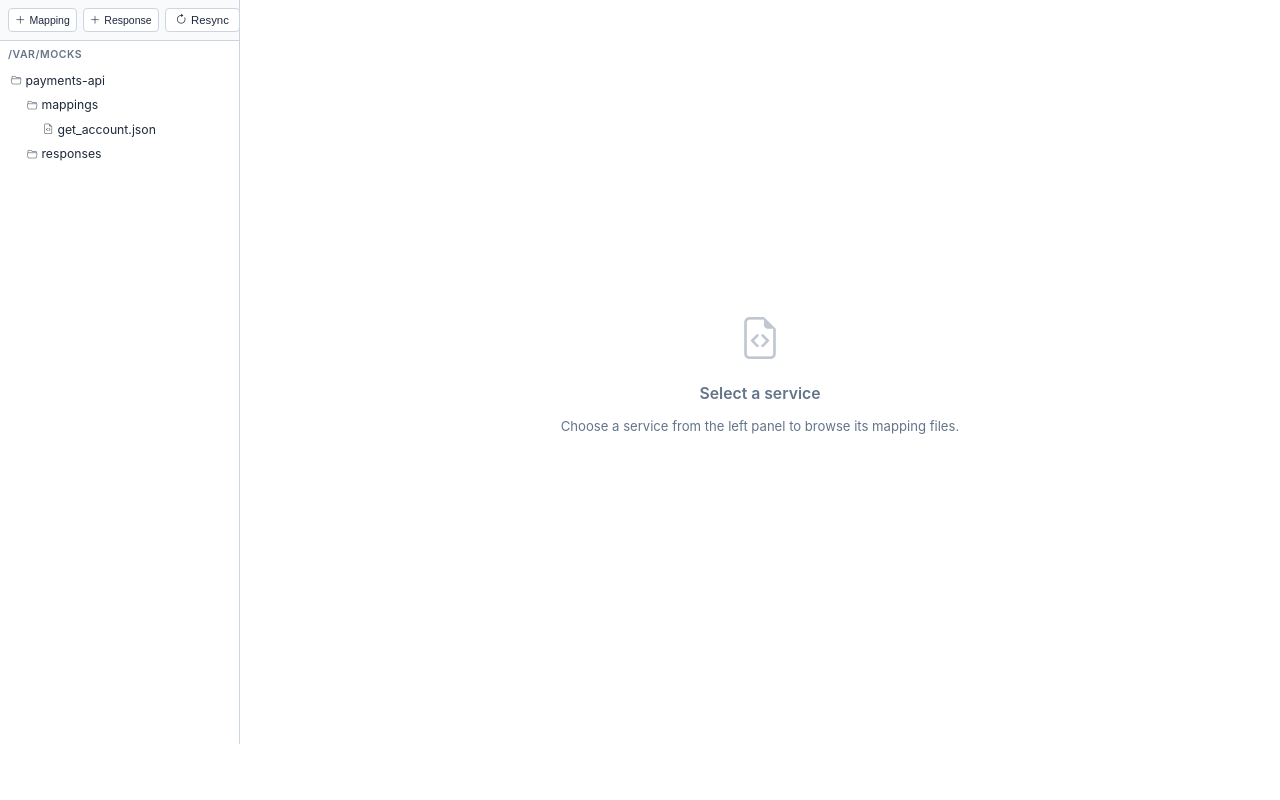
Test case: MappingsPage — handleDeleteSuccess clears active file › after successful delete, editor pane shows the empty state
Expected: the text "payments-api" is shown, [25,73,105,88]
What coordinates should you click on to do the following:
click the list item with test id "mappings-tree-node-payments-api-get_account.json"
I would click on:
 (99, 130)
Its box is [43,122,156,138].
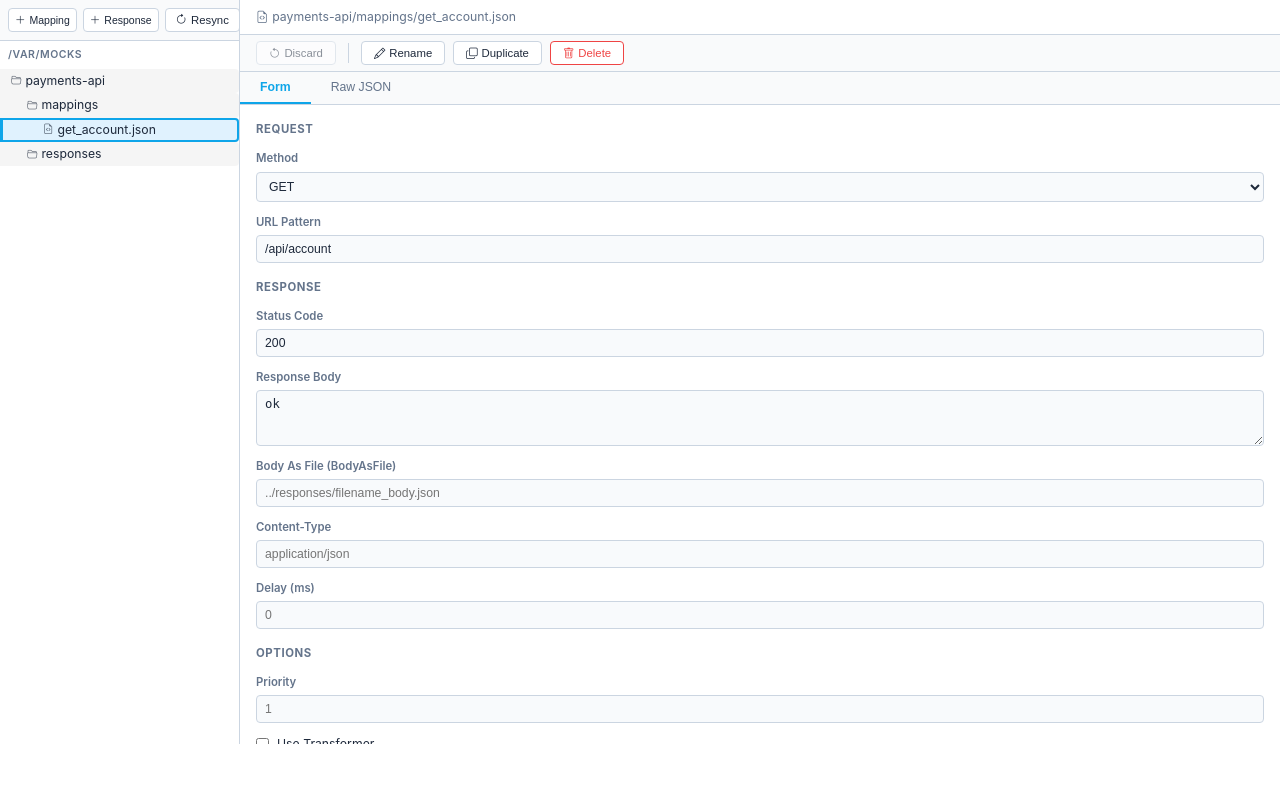
Now the element with test id "mappings-breadcrumb-editor" is shown, box [240,0,1279,35]
What coordinates should you click on to do the following:
click the button with test id "mappings-btn-delete"
I would click on:
 (587, 53)
Its box is [550,41,624,65].
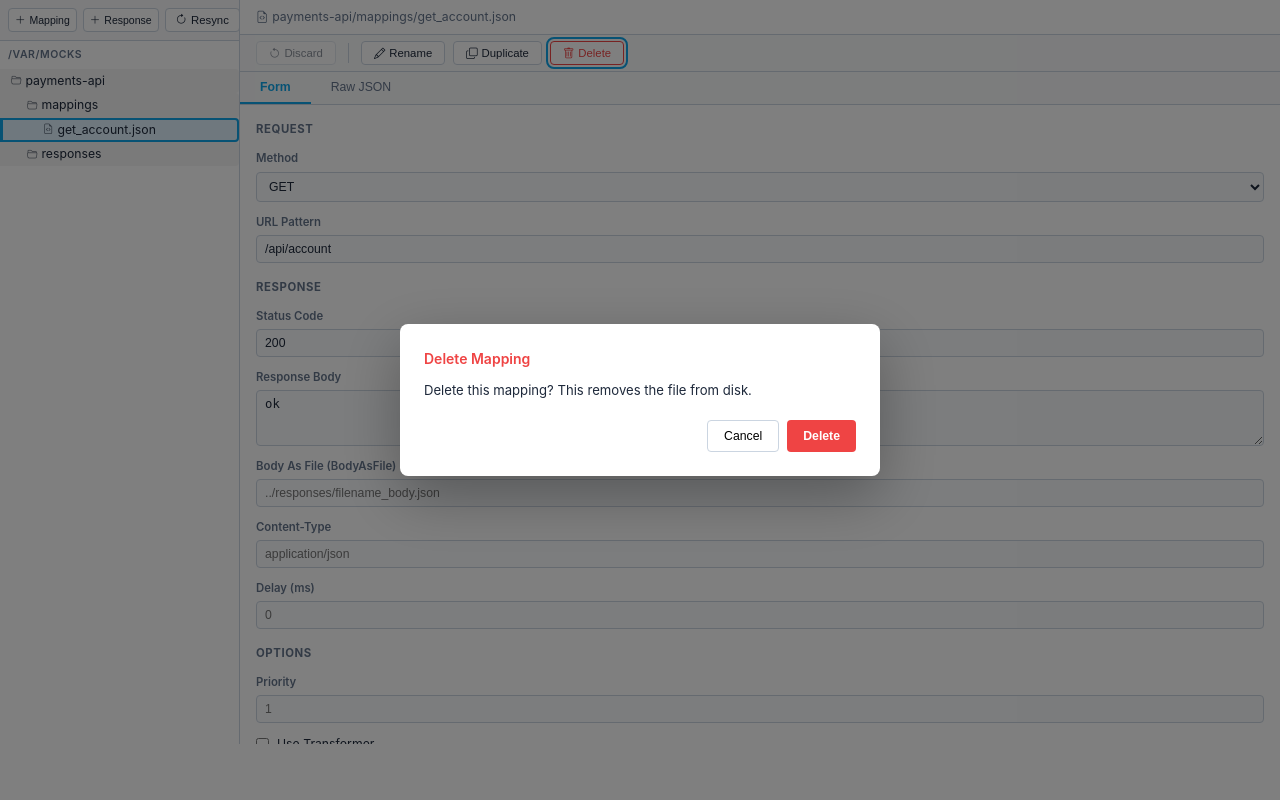
Now the text "Delete this mapping? This removes the file from disk." is shown, box [424,382,752,398]
What coordinates should you click on to do the following:
click the button with aria-label "confirm delete"
I would click on:
 (822, 436)
Its box is [787,420,856,452].
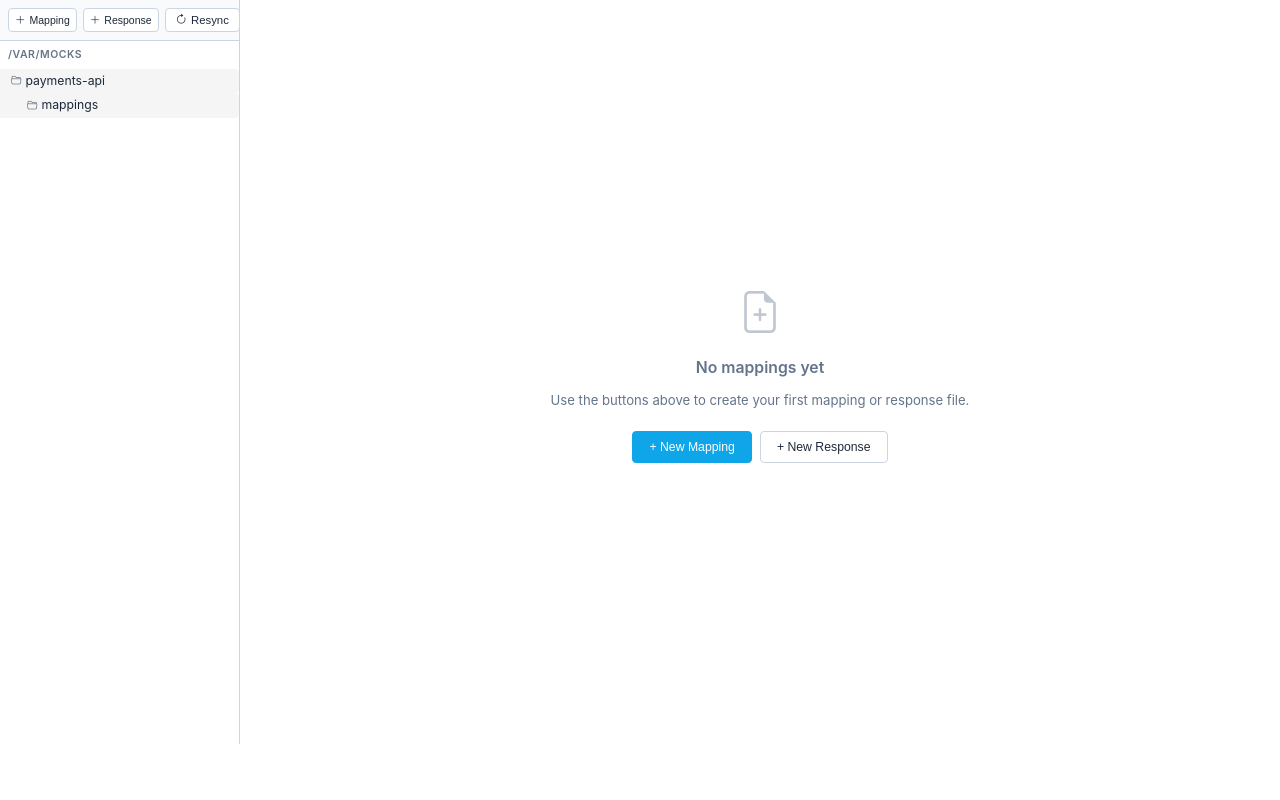
Now the element with test id "mappings-breadcrumb-editor" is gone
